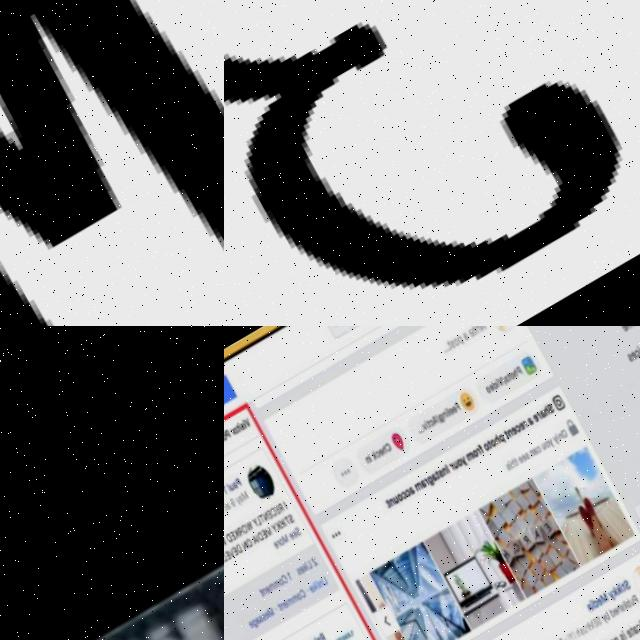2: (118, 605, 224, 640)
3: (224, 0, 640, 326)
5: (228, 497, 237, 508)
A: (460, 333, 469, 344), (430, 416, 438, 428), (538, 411, 546, 422), (431, 474, 439, 485), (420, 480, 428, 491), (251, 535, 259, 546), (632, 628, 640, 638), (408, 488, 416, 497), (586, 607, 594, 616), (527, 420, 534, 429), (232, 481, 239, 490), (238, 494, 245, 503), (225, 502, 232, 511), (532, 450, 539, 458), (255, 617, 262, 625)
B: (625, 603, 632, 611), (604, 615, 611, 623)
C: (403, 489, 413, 500), (280, 574, 290, 585), (383, 443, 392, 454), (400, 491, 409, 502), (298, 589, 307, 600), (270, 508, 278, 519), (514, 426, 522, 436), (428, 419, 435, 429), (633, 352, 640, 361), (375, 452, 382, 461), (635, 625, 640, 637), (536, 448, 542, 456)
D: (225, 533, 234, 545), (256, 531, 265, 543), (591, 600, 600, 611), (490, 382, 498, 393), (235, 544, 243, 555), (609, 612, 616, 621)
E: (517, 423, 526, 435), (531, 415, 540, 426), (510, 428, 519, 439), (620, 326, 628, 337), (629, 353, 637, 364), (467, 330, 475, 341), (266, 509, 274, 520), (225, 550, 232, 561), (520, 456, 528, 465), (625, 631, 633, 640), (447, 409, 454, 419), (517, 458, 524, 468), (288, 532, 295, 542), (309, 585, 316, 595), (274, 506, 281, 516), (230, 531, 237, 541), (261, 529, 268, 539), (232, 546, 239, 556), (264, 612, 272, 620), (488, 386, 495, 395), (597, 601, 604, 610), (265, 586, 272, 595), (249, 620, 256, 629), (451, 408, 458, 416), (378, 450, 385, 458), (613, 612, 620, 620), (593, 622, 600, 630), (292, 531, 299, 539), (273, 542, 280, 550), (299, 566, 306, 574), (283, 601, 290, 609)
F: (453, 403, 462, 414), (477, 446, 484, 456)
G: (426, 477, 435, 488), (252, 618, 260, 630), (437, 414, 445, 425)
H: (492, 436, 501, 447), (542, 408, 550, 419), (509, 461, 517, 471), (511, 370, 518, 380), (380, 446, 387, 456), (575, 632, 583, 640), (616, 608, 623, 616)
I: (618, 585, 625, 597), (241, 419, 248, 430), (471, 326, 478, 336), (444, 465, 451, 475), (304, 562, 311, 572), (507, 463, 514, 472), (589, 603, 596, 612), (621, 632, 628, 640), (494, 381, 500, 390), (443, 410, 449, 419), (423, 422, 429, 431), (367, 454, 373, 463), (236, 423, 242, 432), (314, 581, 320, 590), (283, 502, 289, 511), (255, 534, 261, 543), (282, 519, 288, 527), (635, 349, 640, 358), (622, 605, 627, 612), (638, 623, 640, 632)
K: (610, 588, 619, 600), (615, 587, 623, 598), (233, 529, 241, 540), (275, 521, 283, 532), (311, 582, 318, 593), (370, 451, 377, 461), (302, 563, 309, 573), (279, 519, 286, 529), (311, 637, 319, 640)
L: (306, 560, 313, 571), (255, 516, 262, 527), (315, 581, 322, 590), (226, 483, 232, 493), (445, 409, 451, 418), (554, 436, 560, 445), (224, 552, 228, 563), (624, 605, 629, 612)
M: (0, 0, 224, 326), (599, 595, 610, 608), (240, 490, 249, 502), (415, 483, 424, 494), (281, 533, 290, 544), (267, 607, 276, 618), (264, 527, 273, 538), (273, 580, 281, 590), (466, 454, 474, 463), (588, 624, 596, 633), (292, 595, 300, 604), (287, 598, 295, 607), (269, 584, 277, 592), (624, 326, 633, 332)
N: (241, 540, 250, 552), (262, 511, 271, 522), (441, 468, 449, 479), (506, 431, 514, 440), (388, 499, 396, 508), (262, 588, 269, 597), (441, 414, 448, 422), (318, 581, 325, 589), (280, 603, 287, 611), (365, 457, 371, 465), (557, 436, 563, 443), (529, 452, 535, 459), (316, 637, 323, 640)
O: (395, 494, 405, 505), (452, 339, 461, 350), (471, 450, 480, 461), (455, 459, 464, 470), (560, 431, 569, 442), (240, 524, 249, 535), (245, 538, 254, 549), (502, 377, 510, 387), (489, 441, 497, 450), (509, 374, 516, 383), (484, 387, 491, 396), (482, 445, 489, 454), (278, 578, 285, 587), (544, 444, 551, 452), (232, 427, 239, 435), (278, 539, 285, 547), (297, 593, 303, 601), (224, 432, 228, 441), (224, 554, 226, 565), (630, 326, 637, 329)
P: (514, 367, 523, 379), (498, 435, 506, 447), (456, 337, 464, 348), (224, 428, 231, 440), (632, 598, 640, 608), (235, 477, 242, 487)
R: (236, 526, 245, 538), (277, 503, 285, 514), (522, 422, 529, 432), (423, 479, 430, 489), (319, 632, 327, 640), (535, 414, 542, 423), (448, 465, 455, 474), (474, 328, 481, 336), (475, 449, 482, 457), (585, 627, 591, 636), (230, 429, 235, 436), (276, 541, 281, 548)
S: (545, 404, 556, 418), (436, 470, 445, 481), (623, 582, 632, 593), (294, 526, 302, 538), (626, 355, 634, 366), (287, 514, 295, 525), (579, 630, 586, 639), (596, 620, 603, 629), (258, 615, 265, 624), (449, 342, 456, 350), (504, 466, 511, 474), (620, 607, 627, 615), (239, 423, 246, 431), (296, 568, 303, 576), (261, 614, 268, 622), (524, 455, 530, 462), (619, 636, 626, 640)
T: (258, 514, 266, 525), (505, 374, 513, 384), (629, 630, 637, 640), (470, 328, 477, 338), (445, 342, 452, 352), (503, 432, 510, 442), (486, 441, 493, 451), (434, 471, 441, 481), (384, 500, 391, 510), (277, 603, 284, 613), (284, 516, 291, 526), (425, 422, 432, 430), (513, 460, 520, 468), (621, 586, 628, 594), (234, 425, 241, 433), (259, 590, 266, 598), (224, 501, 228, 512), (224, 484, 228, 495)
U: (320, 575, 330, 587), (392, 496, 399, 506), (452, 463, 459, 472), (229, 483, 236, 491), (583, 628, 589, 637), (630, 602, 636, 610), (541, 446, 547, 453)
V: (495, 378, 504, 390), (243, 417, 251, 429), (228, 548, 236, 559), (421, 425, 428, 433)
W: (244, 521, 255, 533), (476, 326, 487, 333), (224, 535, 227, 548)
Y: (251, 518, 260, 529), (608, 594, 616, 605), (271, 523, 279, 534), (460, 459, 468, 469), (235, 498, 243, 508), (552, 438, 559, 449), (548, 441, 555, 451), (602, 618, 609, 628)
